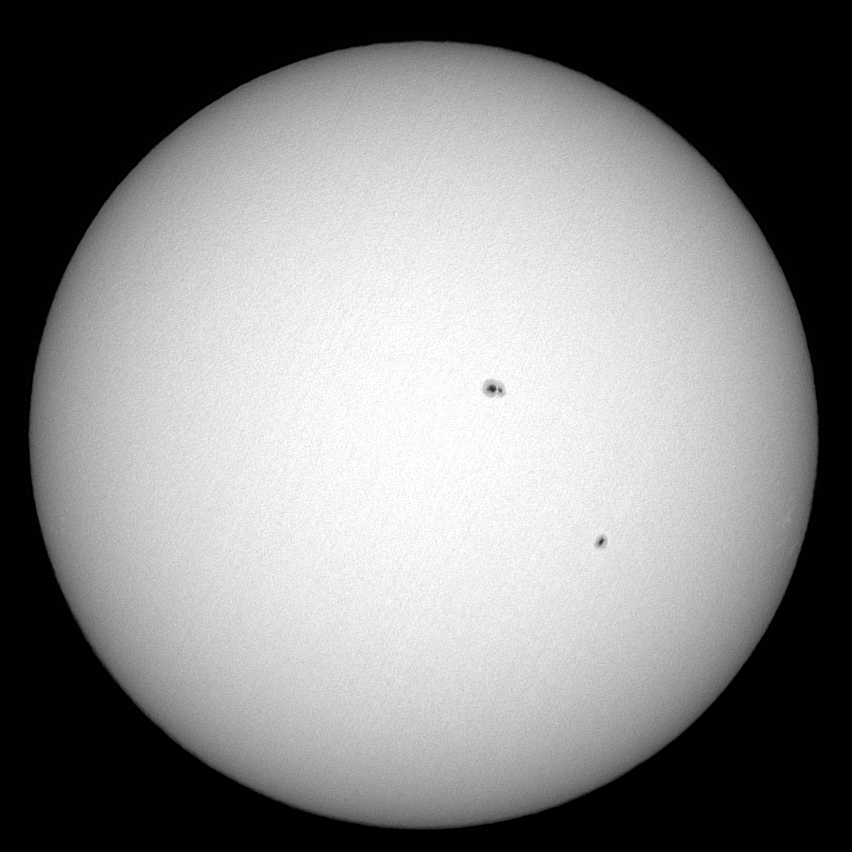sunspot: (481, 377, 510, 399), (590, 528, 609, 550)
